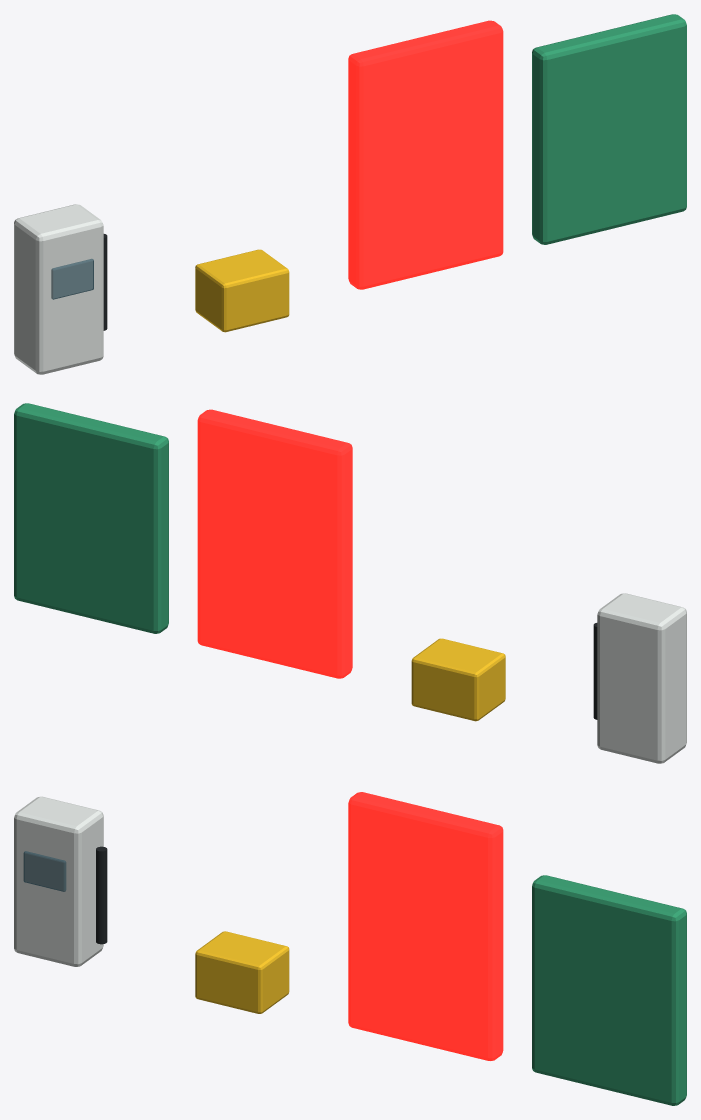
Rendered from service-kit.glb.
3 renders of one model, top to bottom at view 1: azimuth 30°, elevation 25°; view 2: azimuth 150°, elevation 25°; view 3: azimuth 330°, elevation 25°, orthographic.
Parts seen in each view (by area): view 1: HotelMarker, HouseMarker, FuelPump, Parcel, FuelScreen; view 2: HotelMarker, HouseMarker, FuelPump, Parcel; view 3: HotelMarker, HouseMarker, FuelPump, Parcel, FuelScreen, ChargeCable.
Boxes of the visible parts, x1,y1,x2,y2 form: HotelMarker: (348, 20, 503, 289); HouseMarker: (532, 14, 686, 244); FuelPump: (14, 204, 103, 374); Parcel: (195, 249, 289, 332); FuelScreen: (51, 259, 93, 299); HotelMarker: (197, 409, 352, 678); HouseMarker: (14, 403, 168, 633); FuelPump: (597, 593, 686, 763); Parcel: (411, 638, 505, 721); HotelMarker: (348, 792, 503, 1060); HouseMarker: (532, 875, 686, 1105); FuelPump: (14, 796, 103, 966); Parcel: (195, 931, 289, 1013); FuelScreen: (23, 851, 66, 891); ChargeCable: (96, 846, 107, 944).
Size of the model in its own units: 10.75 by 3.6 by 0.84.
